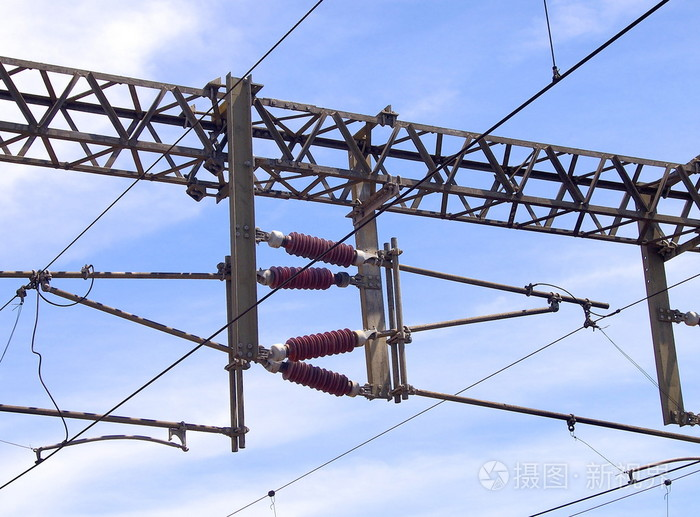insulator: (286, 230, 356, 267), (283, 363, 351, 399), (289, 326, 359, 360), (271, 265, 336, 293)
